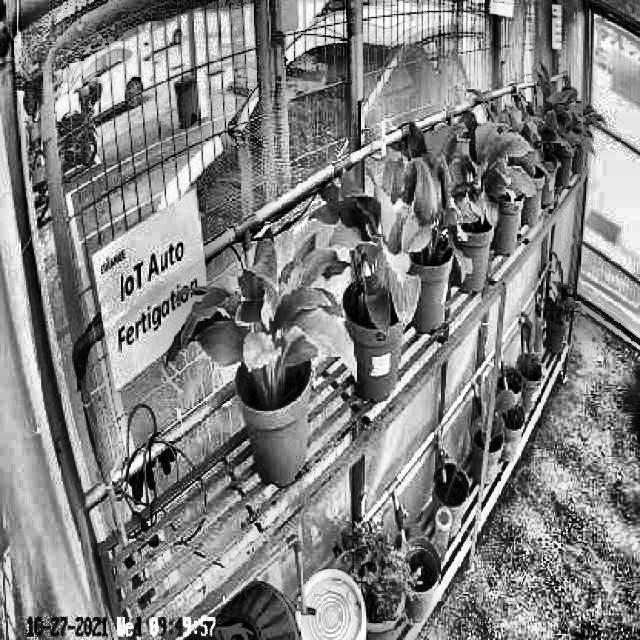plants: (165, 227, 358, 396), (310, 173, 421, 336), (378, 134, 474, 288), (426, 106, 534, 220)
